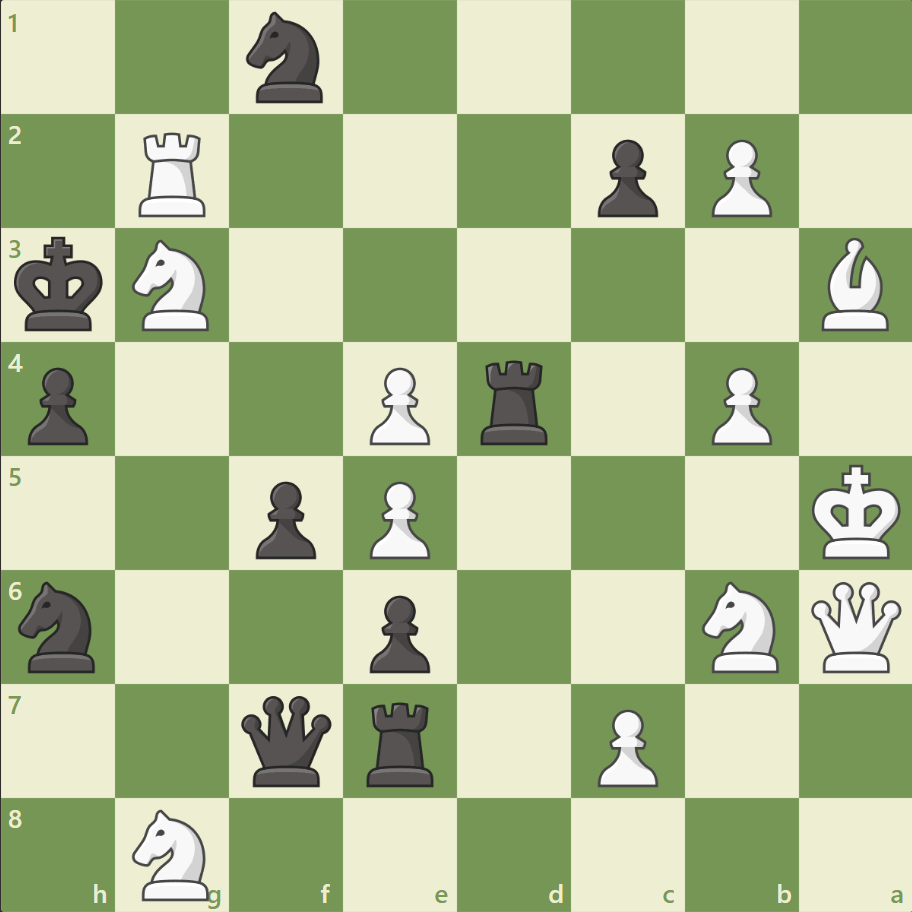B: (812, 233, 896, 336)
K: (806, 458, 906, 566)
N: (124, 234, 222, 337), (124, 802, 222, 904), (692, 575, 789, 677)
P: (701, 359, 776, 450), (701, 132, 776, 223), (588, 700, 662, 791), (361, 473, 435, 564), (361, 359, 435, 450)
Q: (805, 576, 904, 676)
R: (133, 125, 215, 222)
k: (11, 231, 111, 339)
n: (238, 7, 335, 110), (11, 575, 108, 677)
p: (247, 473, 322, 564), (20, 359, 95, 450), (361, 586, 435, 677), (588, 132, 662, 223)
q: (237, 690, 336, 789)
r: (473, 352, 556, 449), (360, 693, 442, 790)
